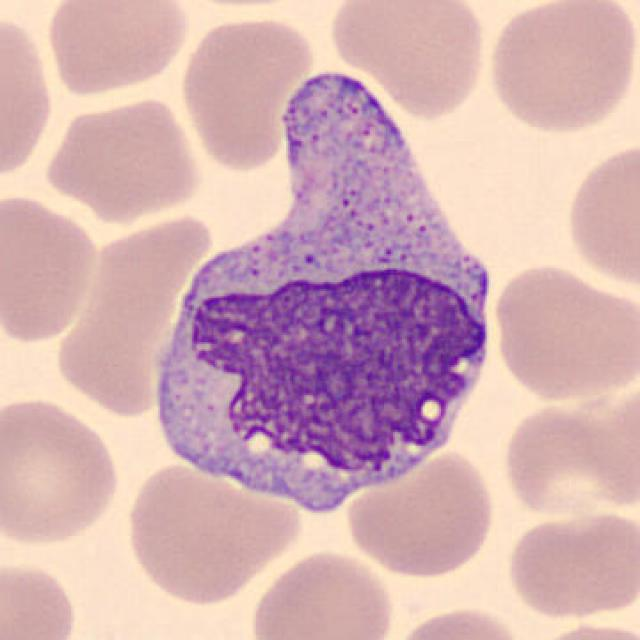Monocyte: (153, 46, 505, 518)
RBC: (119, 457, 302, 608), (176, 11, 316, 172), (39, 92, 205, 224), (484, 0, 638, 138), (489, 261, 636, 405), (342, 446, 499, 580), (325, 0, 491, 122), (0, 393, 123, 552), (498, 397, 636, 518), (0, 188, 101, 347), (502, 506, 638, 622), (41, 0, 192, 99), (245, 546, 398, 640), (562, 137, 640, 291), (0, 7, 57, 190), (0, 555, 82, 640), (386, 603, 530, 640), (521, 619, 638, 640)
